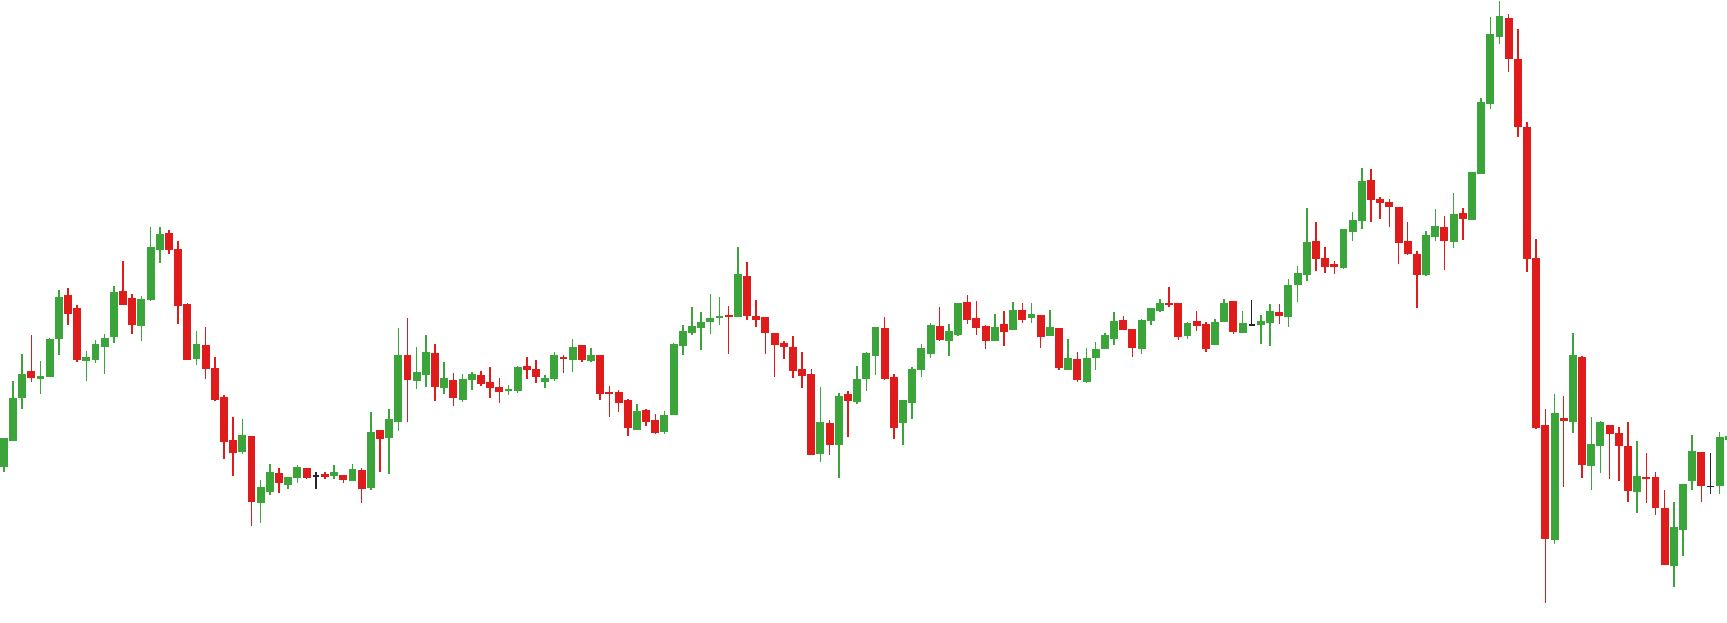buy: (1312, 212, 1433, 317)
sell: (53, 272, 137, 356)
